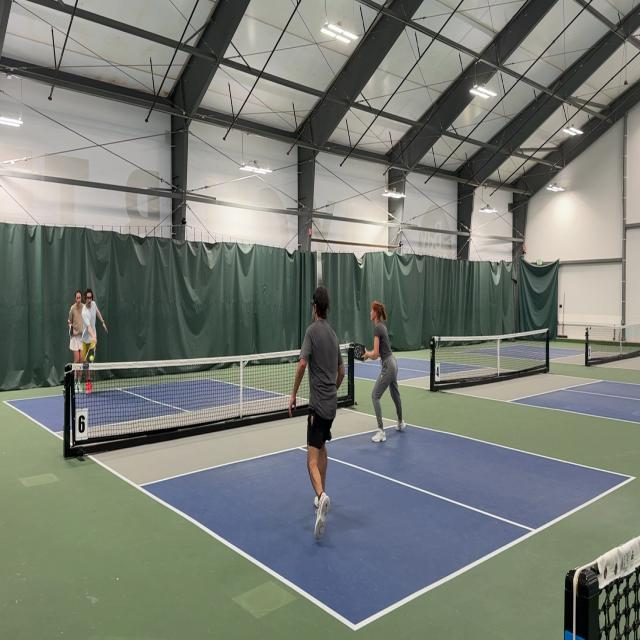ball: (89, 354, 94, 362)
